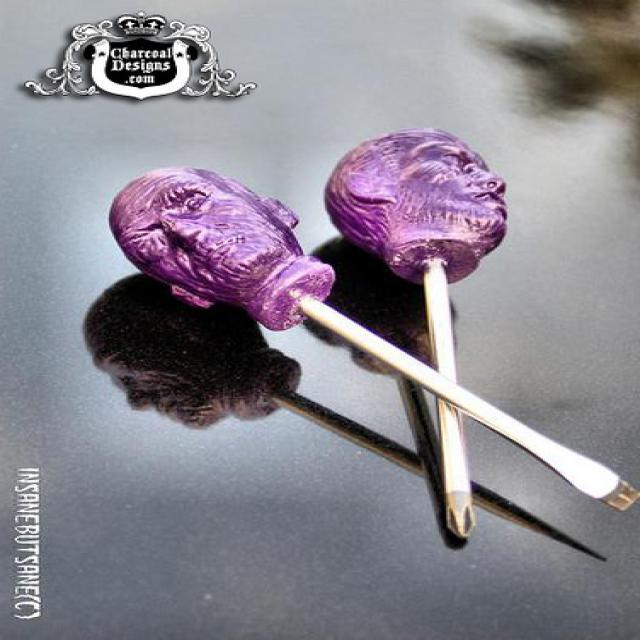screwdriver: (98, 162, 640, 523), (314, 116, 530, 555)
